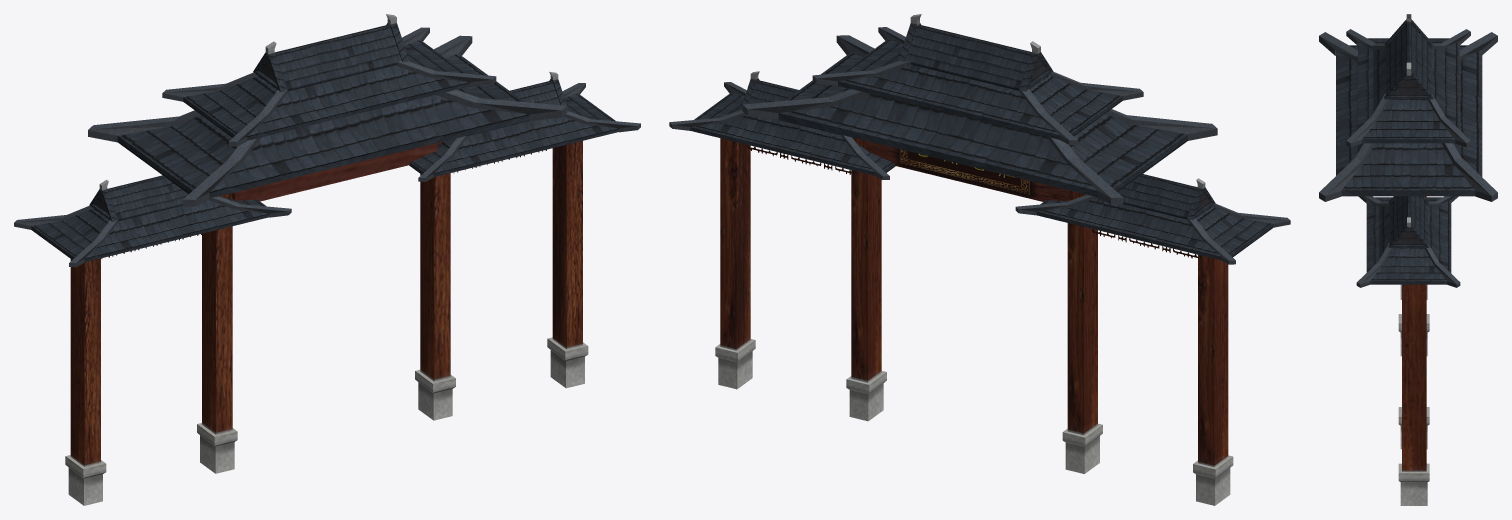
File: NNJ0610004.fbx
3 renders of one model, left to right at view 1: azimuth 30°, elevation 25°; view 2: azimuth 150°, elevation 25°; view 3: azimuth 270°, elevation 25°, orthographic. The views are drawn at different scales.
Parts seen in each view (by area): view 1: smNNJ0610004; view 2: smNNJ0610004; view 3: smNNJ0610004.
Boxes of the visible parts, x1=… form: smNNJ0610004: x1=14, y1=14, x2=640, y2=505; smNNJ0610004: x1=669, y1=14, x2=1290, y2=505; smNNJ0610004: x1=1319, y1=14, x2=1497, y2=505.
Size of the model in its own units: 867 by 597 by 268.
Materials: 1 (1 with a texture image).
